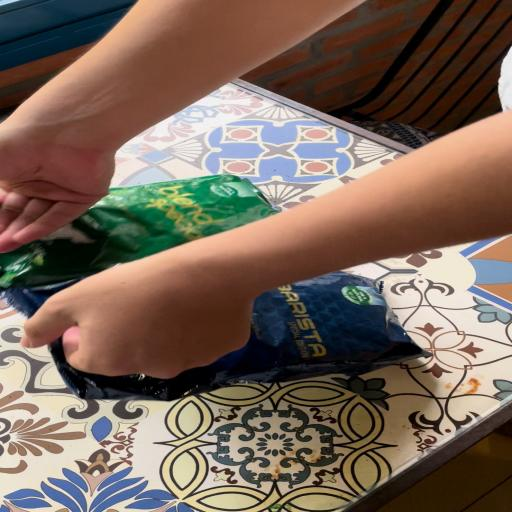cafe_hat: (50, 271, 427, 401), (4, 281, 74, 316)
cafe_xay: (0, 175, 276, 291)
